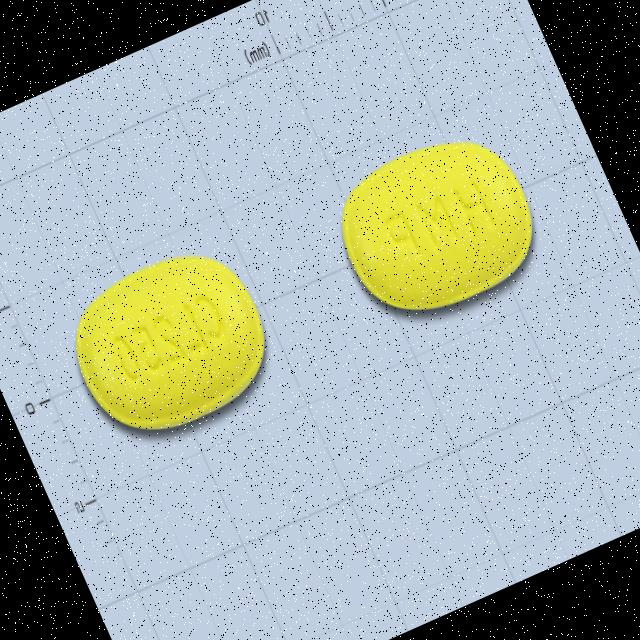Clari - 500mg: (48, 228, 292, 461), (316, 114, 557, 340)
